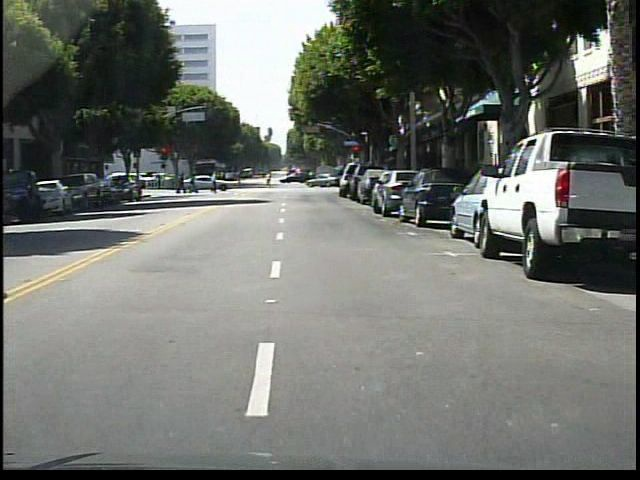person: (209, 167, 229, 196)
